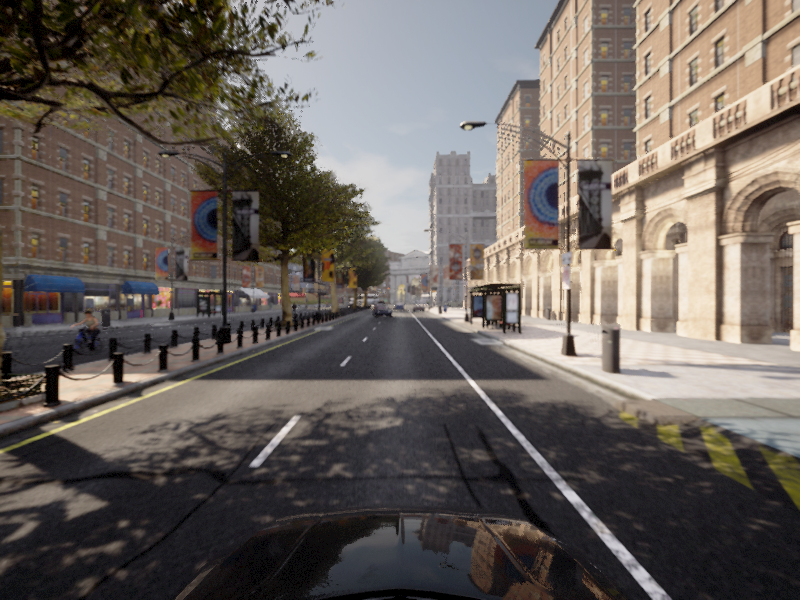vehicle: (57, 309, 113, 357), (371, 305, 392, 318), (288, 302, 298, 318), (1, 308, 5, 344)
